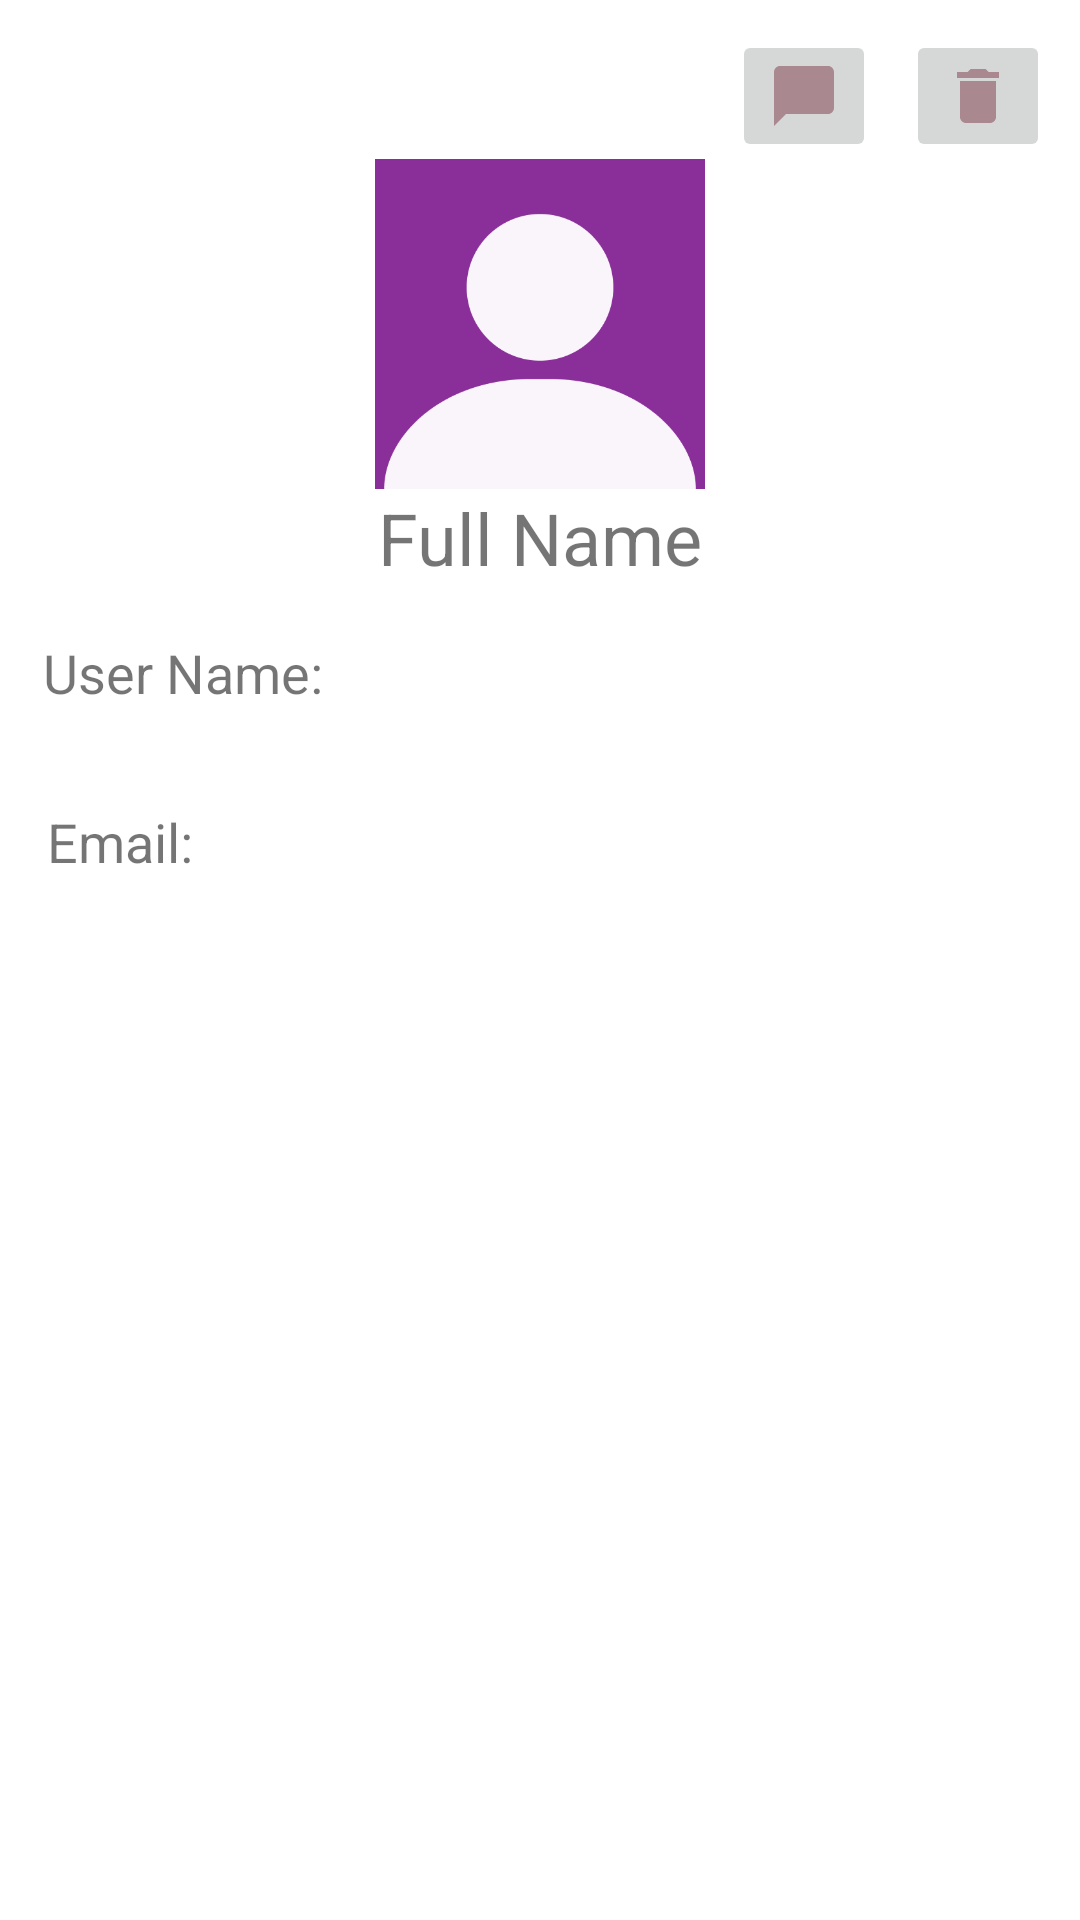

Icon click points for this 1080×1920 phone screenshot, format (x=x, y=y):
chat defultprofile: (x=540, y=324)
contacts chat: (x=804, y=96)
contacts remove: (x=978, y=96)
